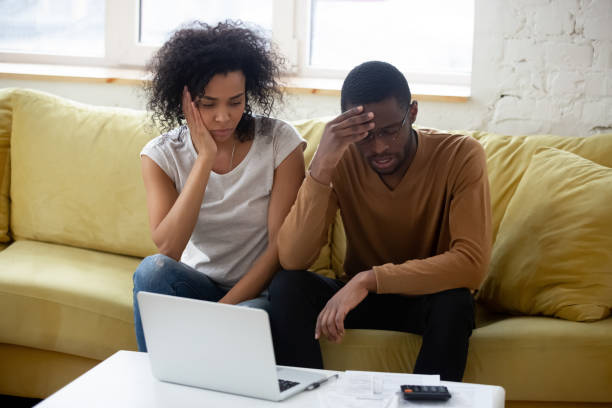without mask: (345, 98, 414, 173), (183, 69, 252, 144)
